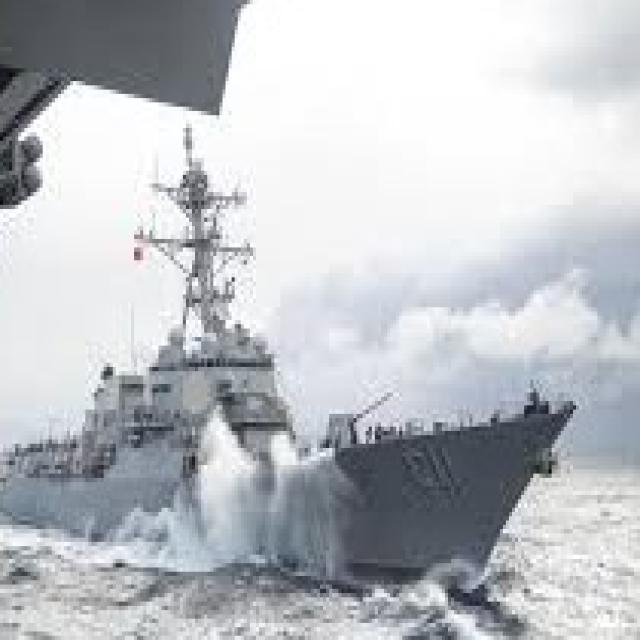navalvessels: (0, 90, 579, 614)
